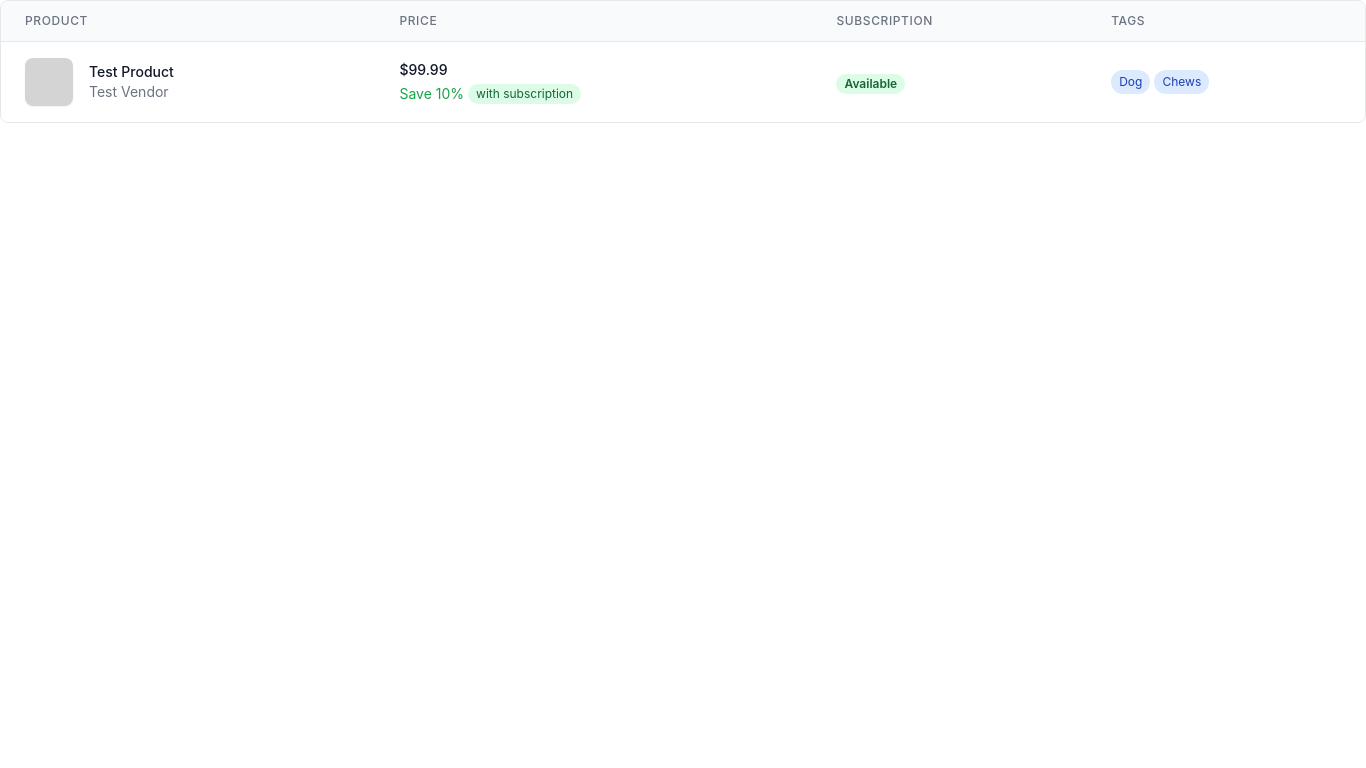
Test case: ProductTable › opens modal when product is clicked
Click the row "Test Product": coordinates (49, 82) [1,42,1365,122]
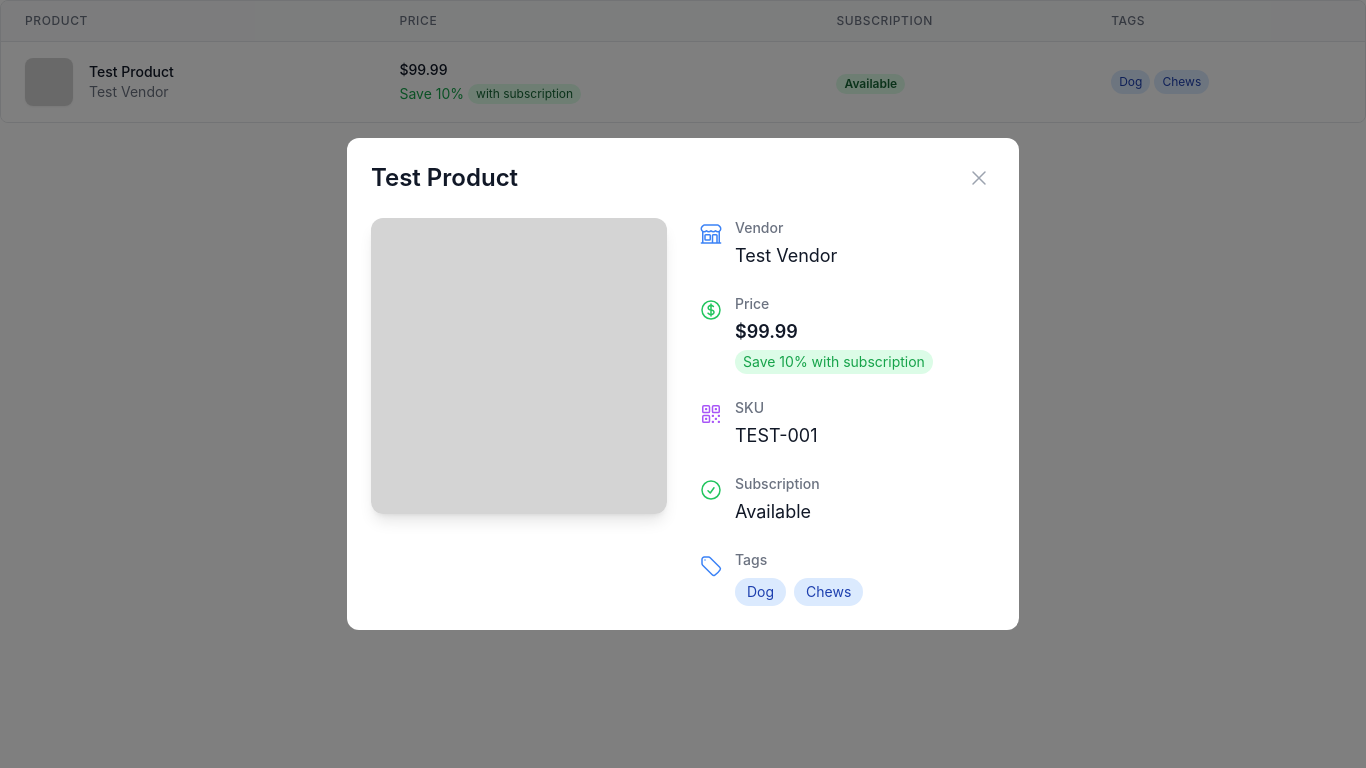
Check: the heading "Test Product" is shown, box [371,162,518,194]
Check: the text "Test Vendor" is shown, box [735,242,837,270]
Check: the text "$99.99" is shown, box [735,321,798,342]
